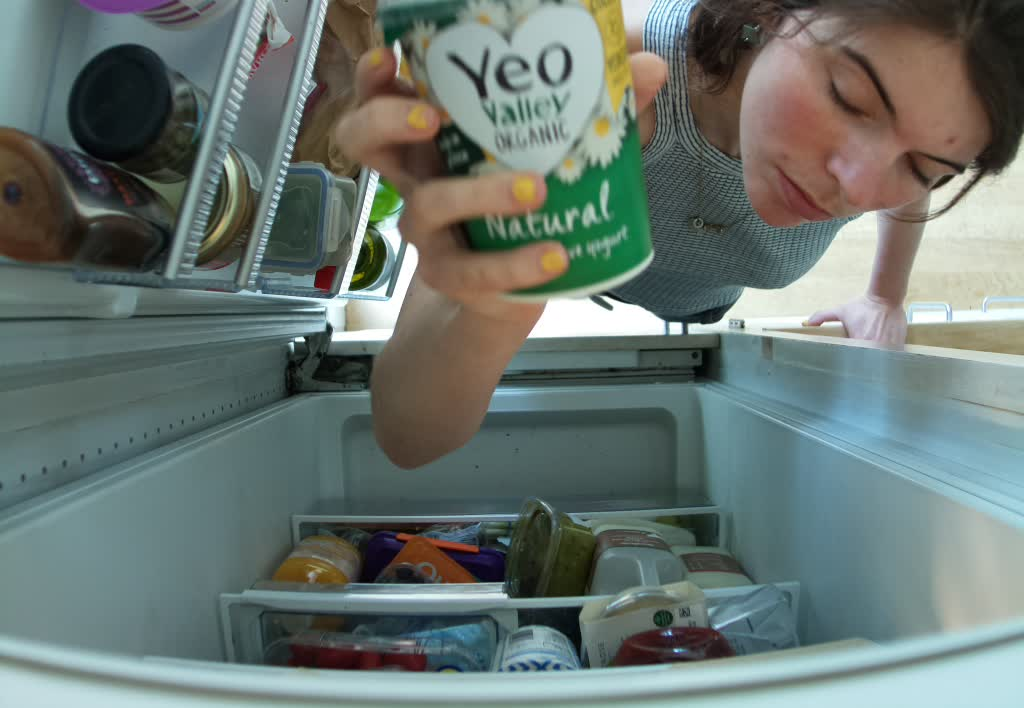yogurt: (370, 1, 659, 305)
